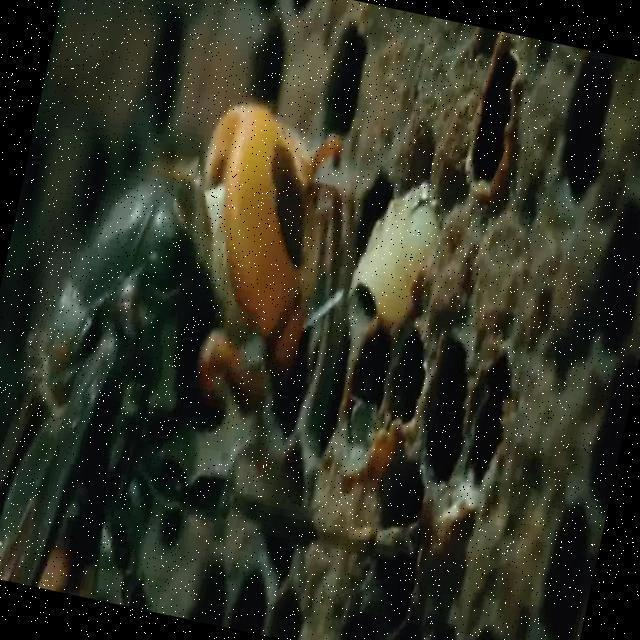Wasp: (23, 95, 468, 576)
